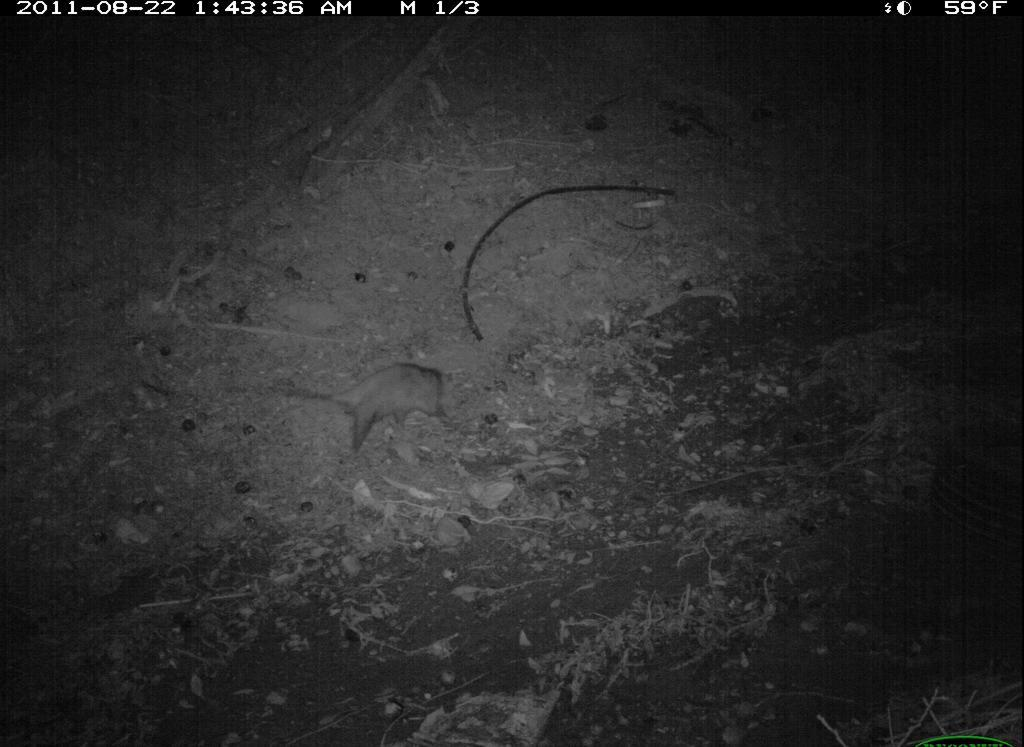opossum: (296, 356, 459, 459)
